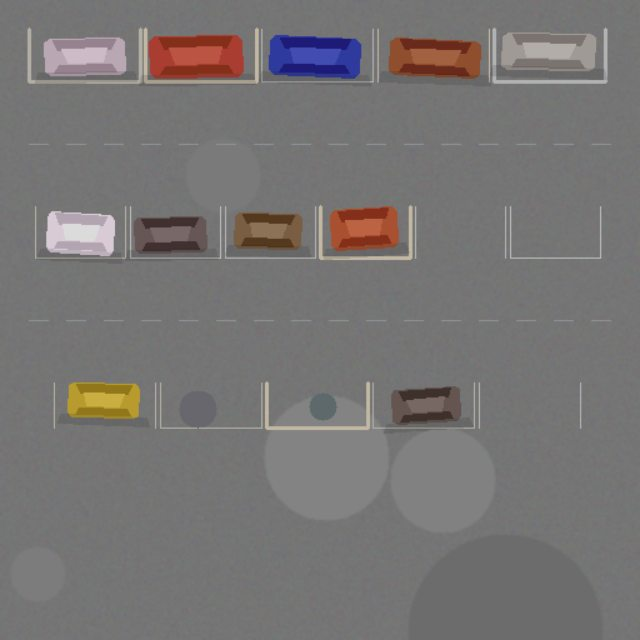space-empty: (415, 206, 505, 258), (510, 206, 600, 258), (160, 382, 261, 427), (266, 382, 367, 427), (479, 382, 580, 427)
space-occupied: (29, 29, 140, 81), (145, 29, 256, 81), (261, 29, 372, 81), (378, 29, 489, 81), (494, 29, 605, 81), (35, 206, 125, 258), (130, 206, 220, 258), (225, 206, 315, 258), (320, 206, 410, 258), (54, 382, 155, 427), (373, 382, 474, 427)
